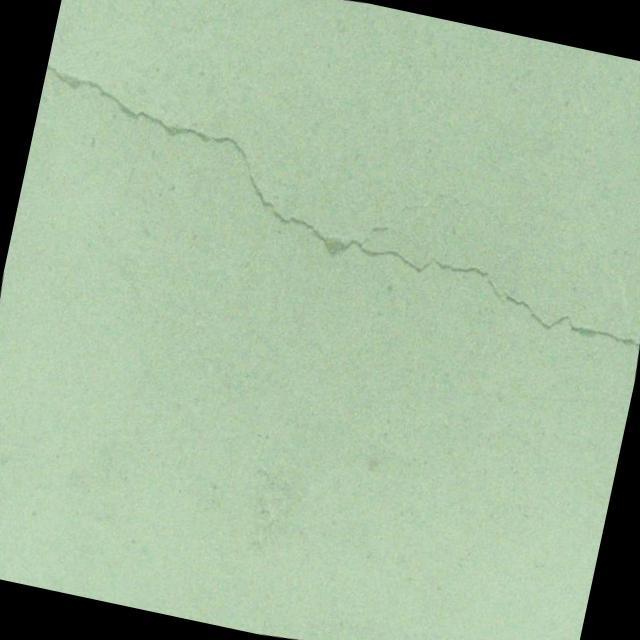crack: (5, 13, 640, 394), (404, 176, 558, 245)
